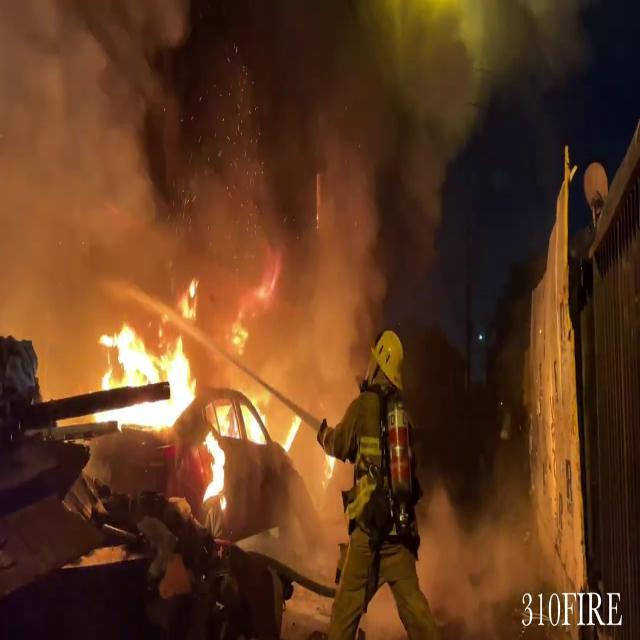Fire: (91, 295, 269, 501)
Smoke: (1, 0, 435, 388), (411, 450, 521, 636)
